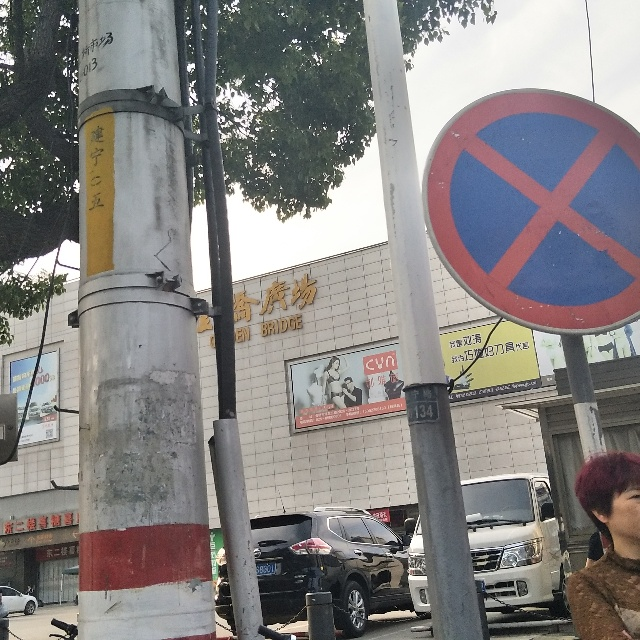stop: (441, 108, 640, 319)
